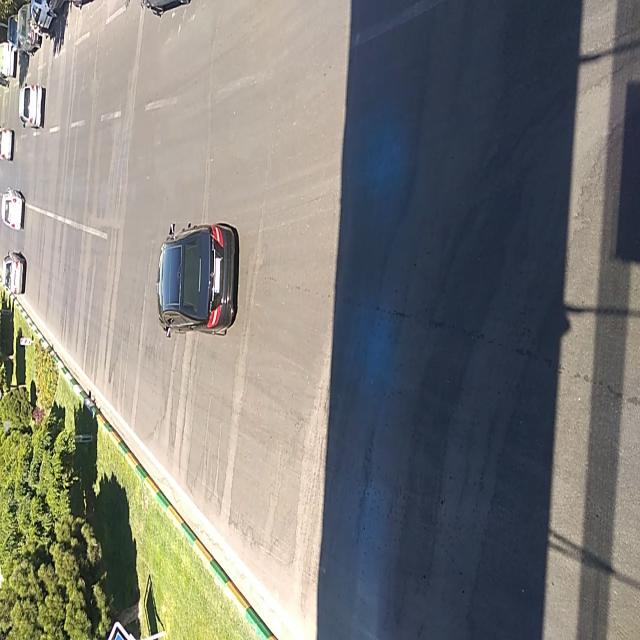car: (157, 221, 240, 337), (19, 79, 43, 130), (2, 183, 27, 230), (2, 249, 26, 294)
